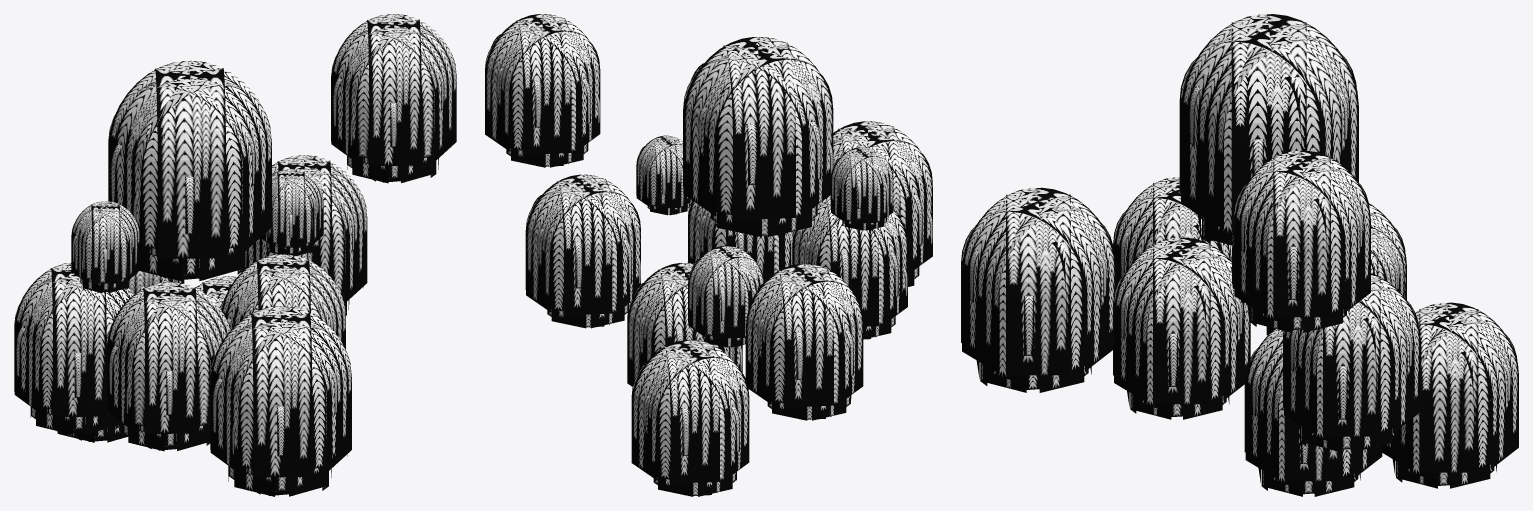
File: Canopy 1.fbx
The picture shows the model from 3 angles, left to right: view 1: azimuth 30°, elevation 25°; view 2: azimuth 150°, elevation 25°; view 3: azimuth 270°, elevation 25°; orthographic projection. The views are drawn at different scales.
Parts seen in each view (by area): view 1: Cylinder.243, Cylinder.003, Cylinder.123, Cylinder.043, Cylinder.363, Cylinder.242, Cylinder.241, Cylinder.001, Cylinder.002, Cylinder.121, Cylinder.041, Cylinder.361 (+36 smaller); view 2: Cylinder.242, Cylinder.243, Cylinder.362, Cylinder.400, Cylinder.162, Cylinder.122, Cylinder.241, Cylinder.001, Cylinder.401, Cylinder.363, Cylinder.163, Cylinder.123 (+34 smaller); view 3: Cylinder.001, Cylinder.241, Cylinder.242, Cylinder.399, Cylinder.121, Cylinder.081, Cylinder.161, Cylinder.002, Cylinder.243, Cylinder.003, Cylinder.122, Cylinder.082 (+26 smaller).
Part boxes in pixels (x1=…): Cylinder.243: x1=154, y1=68, x2=226, y2=258; Cylinder.003: x1=250, y1=312, x2=312, y2=477; Cylinder.123: x1=367, y1=19, x2=421, y2=166; Cylinder.043: x1=143, y1=287, x2=197, y2=433; Cylinder.363: x1=50, y1=268, x2=106, y2=417; Cylinder.242: x1=108, y1=60, x2=271, y2=253; Cylinder.241: x1=108, y1=61, x2=270, y2=254; Cylinder.001: x1=210, y1=306, x2=350, y2=473; Cylinder.002: x1=210, y1=306, x2=351, y2=472; Cylinder.121: x1=331, y1=14, x2=455, y2=162; Cylinder.041: x1=107, y1=282, x2=230, y2=430; Cylinder.361: x1=14, y1=262, x2=131, y2=413; Cylinder.242: x1=723, y1=42, x2=795, y2=220; Cylinder.243: x1=683, y1=37, x2=833, y2=216; Cylinder.362: x1=777, y1=268, x2=833, y2=407; Cylinder.400: x1=663, y1=344, x2=719, y2=483; Cylinder.162: x1=556, y1=179, x2=612, y2=315; Cylinder.122: x1=515, y1=18, x2=571, y2=154; Cylinder.241: x1=683, y1=37, x2=833, y2=215; Cylinder.001: x1=833, y1=121, x2=932, y2=273; Cylinder.401: x1=631, y1=340, x2=749, y2=480; Cylinder.363: x1=745, y1=264, x2=863, y2=404; Cylinder.163: x1=526, y1=174, x2=640, y2=312; Cylinder.123: x1=485, y1=14, x2=600, y2=151; Cylinder.001: x1=1006, y1=194, x2=1070, y2=375; Cylinder.241: x1=1231, y1=22, x2=1306, y2=231; Cylinder.242: x1=1181, y1=14, x2=1356, y2=229; Cylinder.399: x1=1419, y1=309, x2=1478, y2=472; Cylinder.121: x1=1273, y1=157, x2=1330, y2=317; Cylinder.081: x1=1153, y1=243, x2=1210, y2=404; Cylinder.161: x1=1323, y1=276, x2=1380, y2=436; Cylinder.002: x1=962, y1=188, x2=1114, y2=373; Cylinder.243: x1=1179, y1=14, x2=1358, y2=193; Cylinder.003: x1=961, y1=187, x2=1115, y2=371; Cylinder.122: x1=1234, y1=150, x2=1369, y2=315; Cylinder.082: x1=1114, y1=237, x2=1225, y2=402.
Size of the model in its own units: 191 by 205 by 183.
